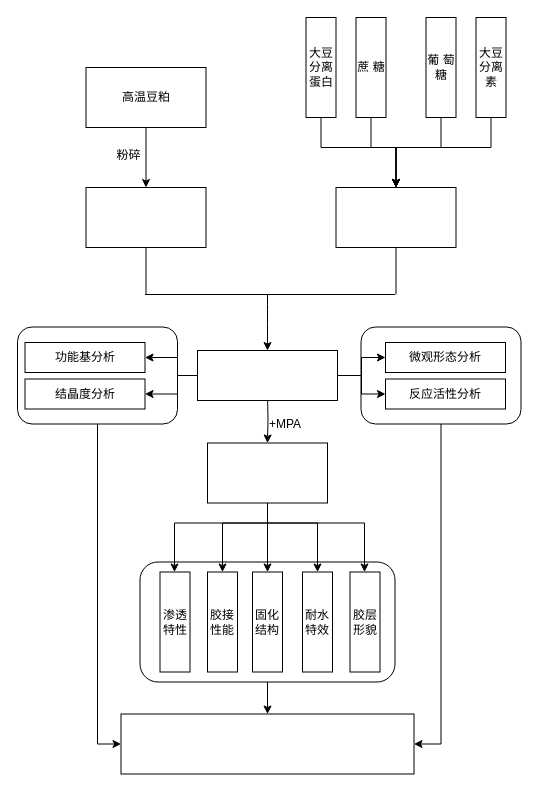
The diagram is 539 pixels wide and 792 high, and some of its shapes have lost their labels. Here are the shapes that lost their labels. From the top down, the box of each, then its label:
(85, 186, 206, 248): 高温豆粕粉
(335, 186, 456, 248): 高温豆粕粉模型
(196, 350, 338, 400): 热化学改性高温豆粕粉
(206, 442, 328, 503): 高温豆粕粉胶粘剂
(120, 713, 414, 774): 热化学改性对大豆胶粘剂结构与性能的作用机理
